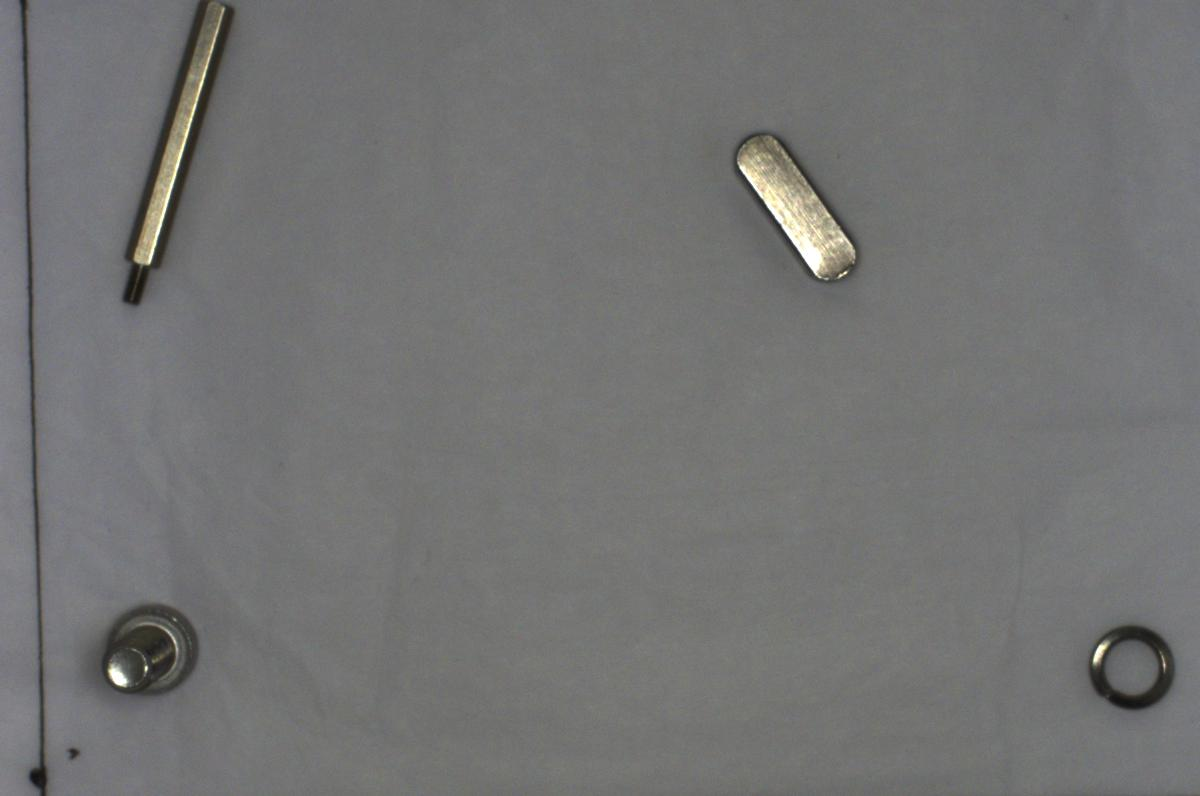Hexagon screw: (84, 590, 217, 706)
Hexagonal steel column: (108, 6, 254, 315)
Keybar: (724, 122, 870, 293)
Spring washer: (1079, 616, 1186, 715)
